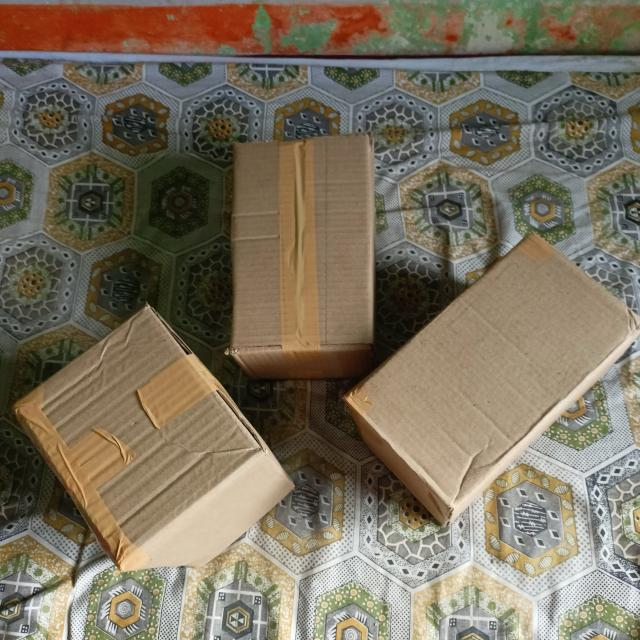box: (350, 233, 640, 508), (14, 305, 264, 568), (232, 138, 375, 348)
